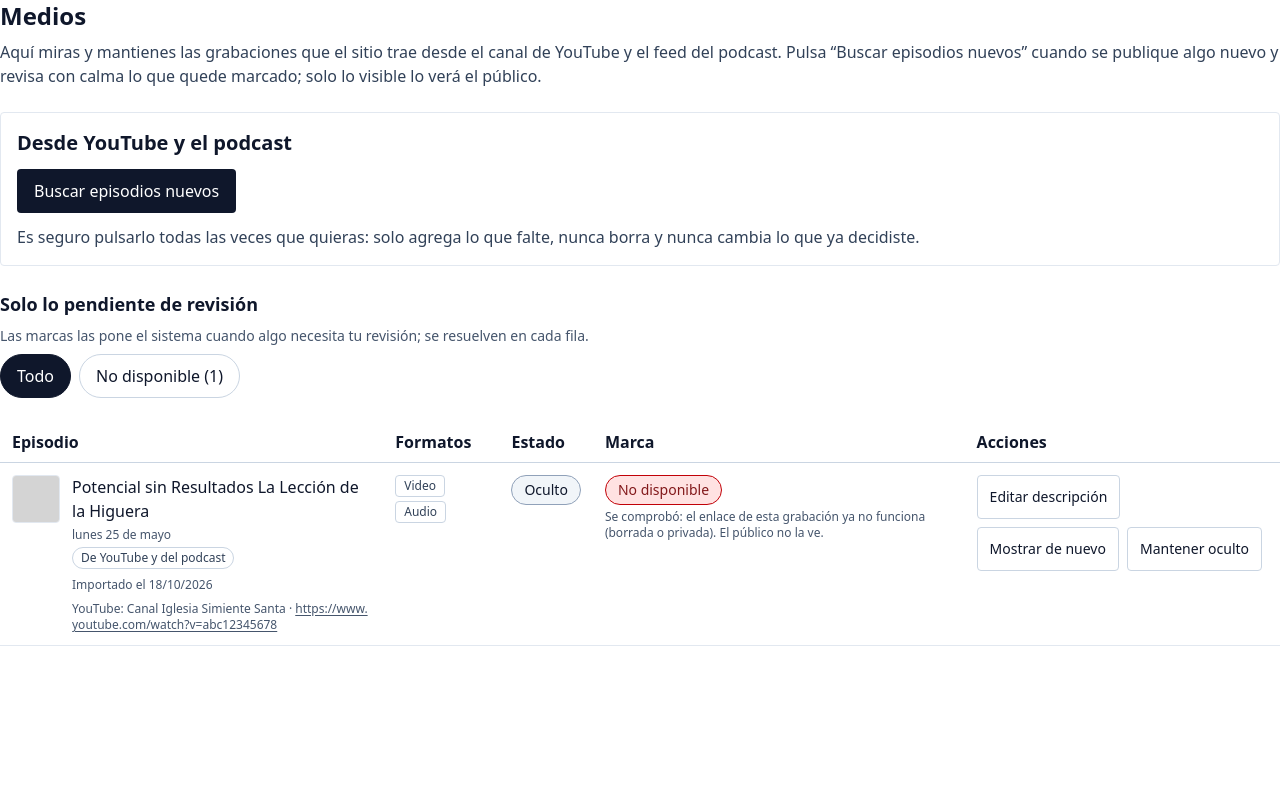
Scenario: MediosPage · unión de duplicados y resoluciones (US3, ux.md §4.6/§4.7) › «Mostrar de nuevo» exige su confirmación suave y resuelve solo su eje (⟲ D-28/P9-19)
Expected: the table is shown, [0, 422, 1279, 646]
Click the button "Mostrar de nuevo" at (1048, 549), box [977, 527, 1119, 571]
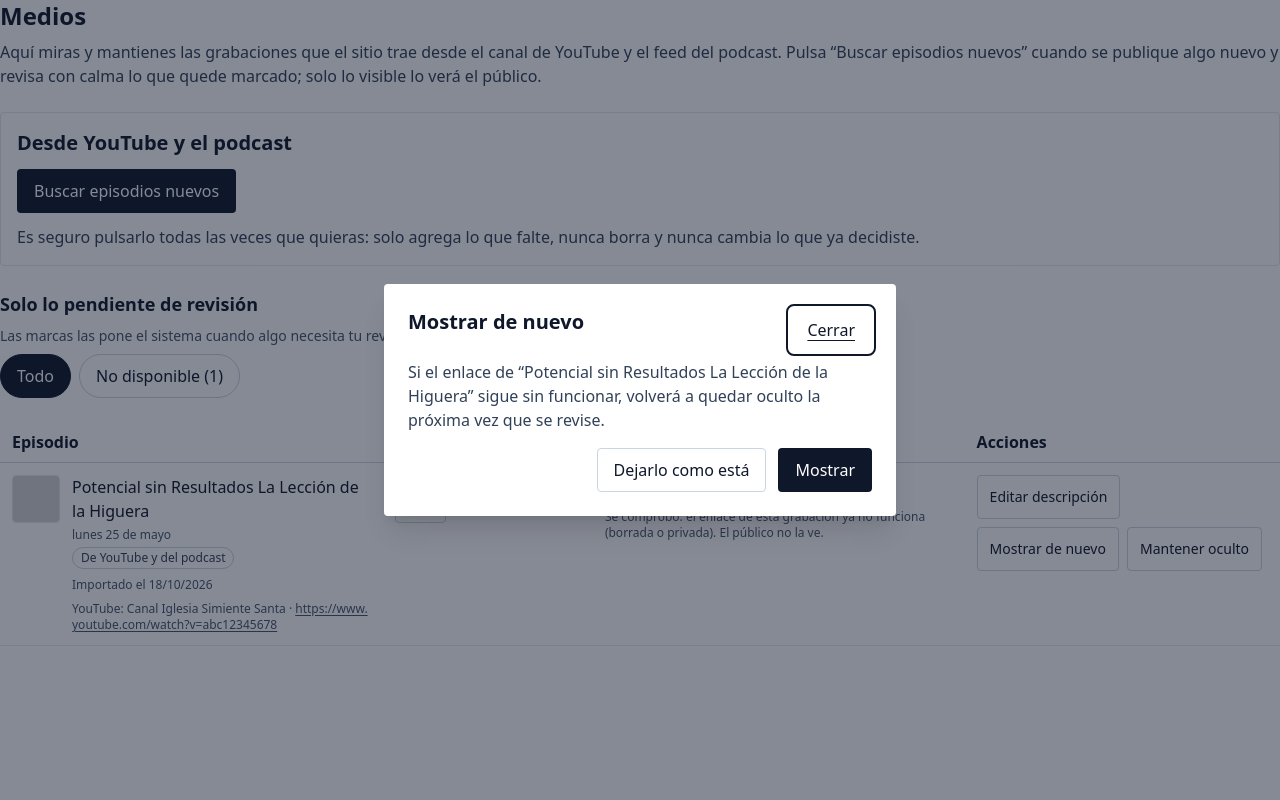
Now the text "Si el enlace de “Potencial sin Resultados La Lección de la Higuera” sigue sin funcionar, volverá a quedar oculto la próx" is shown, box [408, 361, 828, 431]
Click the button "Mostrar" at (825, 470), box [778, 448, 872, 492]
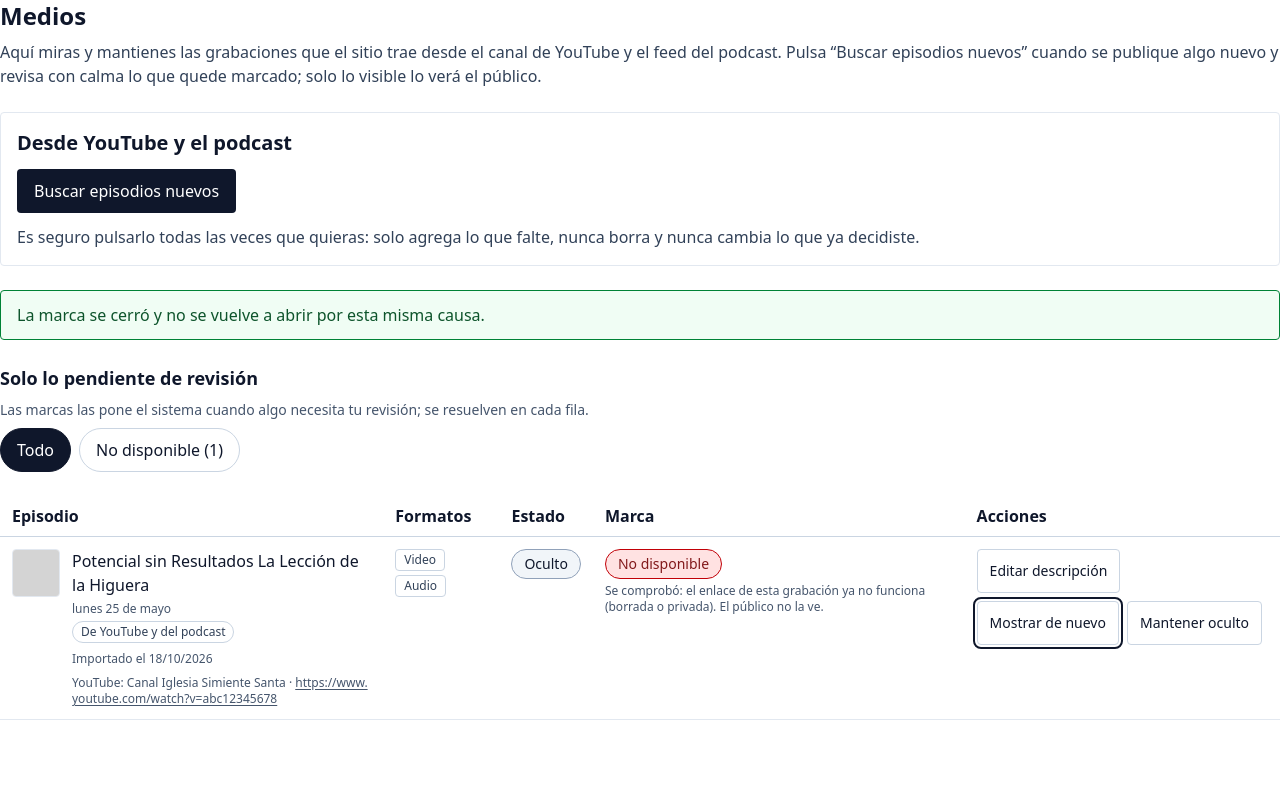
Now the text "La marca se cerró y no se vuelve a abrir por esta misma causa." is shown, box [0, 290, 1279, 340]
